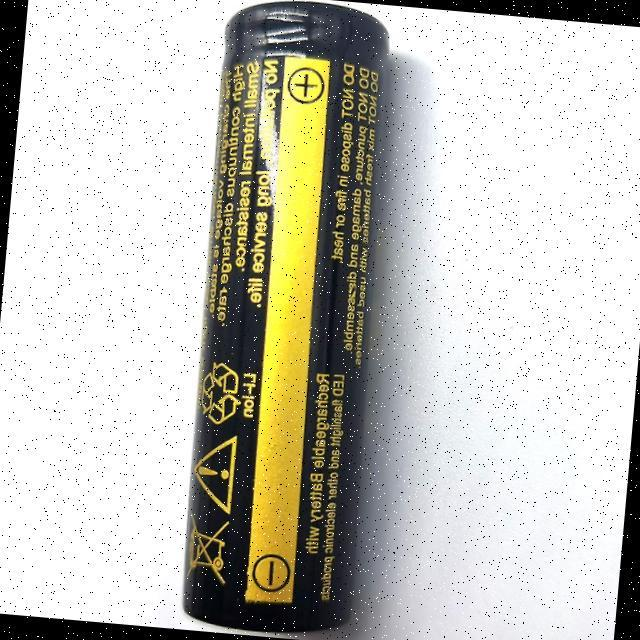AA: (182, 1, 389, 632)
